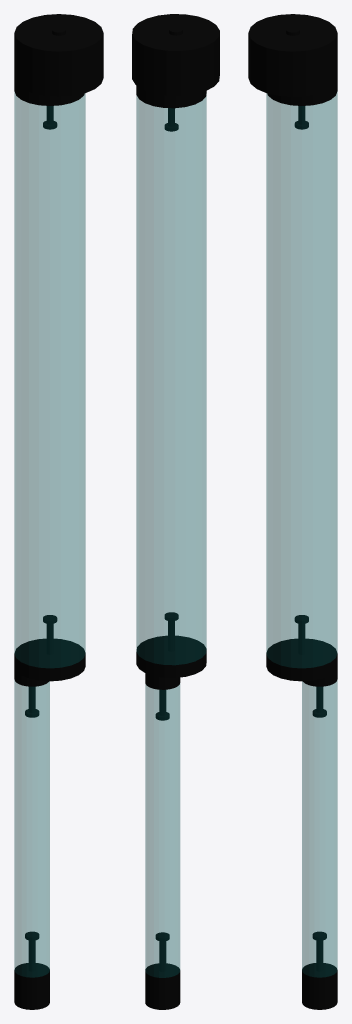
Rendered from VerticalFittingTreeCreation.gltf.
3 views of the same model, side by side, from view 1: azimuth 90°, elevation 25°; view 2: azimuth 150°, elevation 25°; view 3: azimuth 270°, elevation 25° (orthographic).
Visible parts, largest first — view 1: 08b38e05-bc18-4a6d-b474-548ac1d230b4_mesh, 335626f8-fe38-49ec-80ff-3b942137cfb9_mesh, 6d957816-aec7-418b-ba62-d88d767f2439_mesh, 561e5d7d-d585-497f-8371-5491c32202db_mesh, 1f7906a5-e3b7-4abd-a82e-9885c477bdac_mesh, 717ba780-9008-48fb-a9cf-00c4ecd86d99_mesh; view 2: 08b38e05-bc18-4a6d-b474-548ac1d230b4_mesh, 335626f8-fe38-49ec-80ff-3b942137cfb9_mesh, 6d957816-aec7-418b-ba62-d88d767f2439_mesh, 561e5d7d-d585-497f-8371-5491c32202db_mesh, 1f7906a5-e3b7-4abd-a82e-9885c477bdac_mesh, 717ba780-9008-48fb-a9cf-00c4ecd86d99_mesh; view 3: 08b38e05-bc18-4a6d-b474-548ac1d230b4_mesh, 335626f8-fe38-49ec-80ff-3b942137cfb9_mesh, 6d957816-aec7-418b-ba62-d88d767f2439_mesh, 561e5d7d-d585-497f-8371-5491c32202db_mesh, 1f7906a5-e3b7-4abd-a82e-9885c477bdac_mesh, 717ba780-9008-48fb-a9cf-00c4ecd86d99_mesh.
Part boxes in pixels (<box>): 08b38e05-bc18-4a6d-b474-548ac1d230b4_mesh: <box>14,92,85,667</box>; 335626f8-fe38-49ec-80ff-3b942137cfb9_mesh: <box>14,680,49,977</box>; 6d957816-aec7-418b-ba62-d88d767f2439_mesh: <box>14,14,103,83</box>; 561e5d7d-d585-497f-8371-5491c32202db_mesh: <box>14,615,85,717</box>; 1f7906a5-e3b7-4abd-a82e-9885c477bdac_mesh: <box>14,26,103,129</box>; 717ba780-9008-48fb-a9cf-00c4ecd86d99_mesh: <box>14,931,49,1009</box>; 08b38e05-bc18-4a6d-b474-548ac1d230b4_mesh: <box>136,95,206,664</box>; 335626f8-fe38-49ec-80ff-3b942137cfb9_mesh: <box>145,684,179,977</box>; 6d957816-aec7-418b-ba62-d88d767f2439_mesh: <box>132,14,219,82</box>; 561e5d7d-d585-497f-8371-5491c32202db_mesh: <box>136,612,206,720</box>; 1f7906a5-e3b7-4abd-a82e-9885c477bdac_mesh: <box>132,26,219,131</box>; 717ba780-9008-48fb-a9cf-00c4ecd86d99_mesh: <box>145,932,180,1009</box>; 08b38e05-bc18-4a6d-b474-548ac1d230b4_mesh: <box>266,92,337,667</box>; 335626f8-fe38-49ec-80ff-3b942137cfb9_mesh: <box>302,680,337,977</box>; 6d957816-aec7-418b-ba62-d88d767f2439_mesh: <box>248,14,337,83</box>; 561e5d7d-d585-497f-8371-5491c32202db_mesh: <box>266,615,337,717</box>; 1f7906a5-e3b7-4abd-a82e-9885c477bdac_mesh: <box>248,26,337,129</box>; 717ba780-9008-48fb-a9cf-00c4ecd86d99_mesh: <box>302,931,337,1009</box>.
Size of the model in its own units: 0.25 by 3.01 by 0.25.
